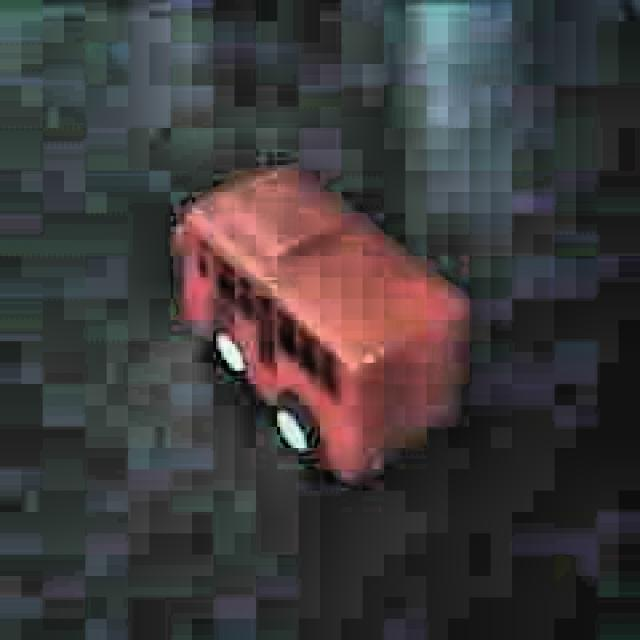bus: (164, 159, 476, 486)
